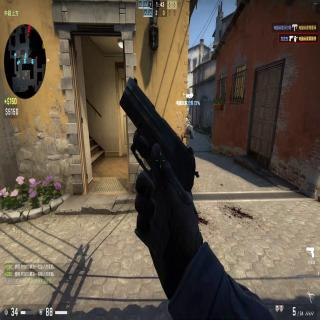CT-Head: (186, 114, 191, 122)
